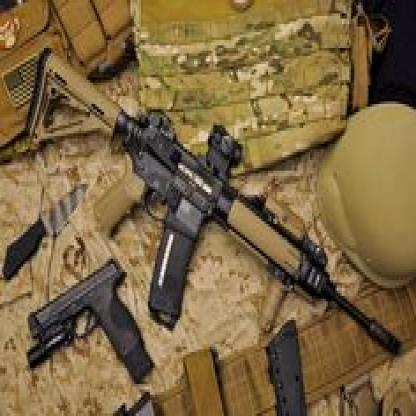Gun: (23, 44, 402, 358)
Knife: (3, 181, 89, 281)
Pistol: (25, 257, 155, 384)
